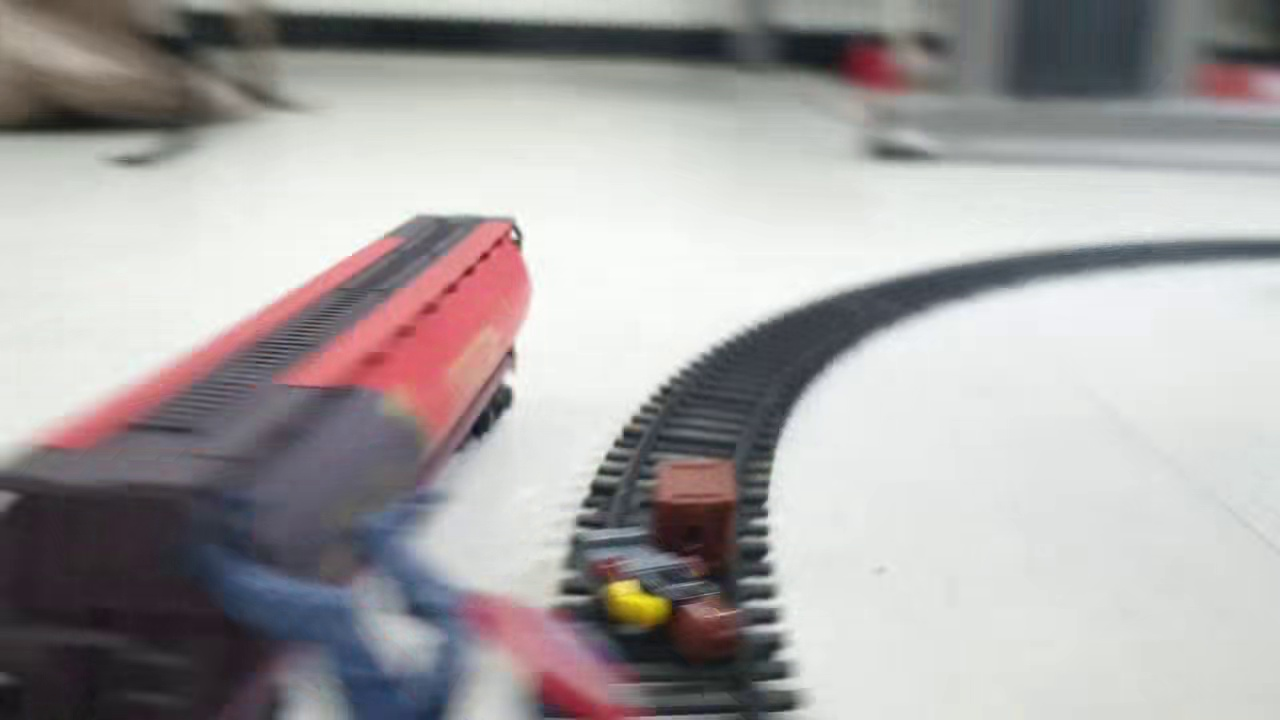box: (649, 455, 746, 561)
people: (197, 487, 650, 720), (572, 523, 755, 660)
